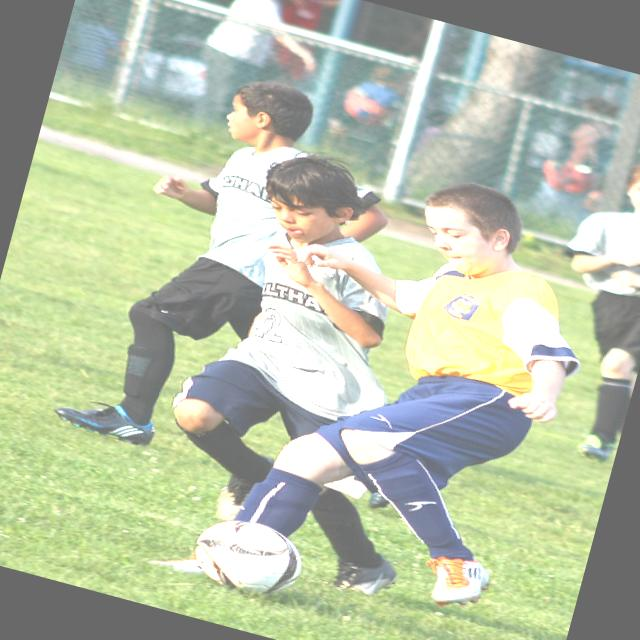Vehicle: (130, 24, 218, 108)
